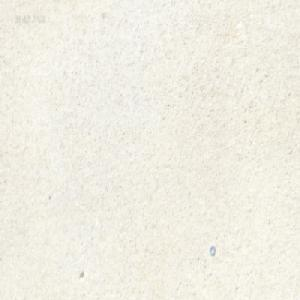Washer: (209, 245, 215, 256)
